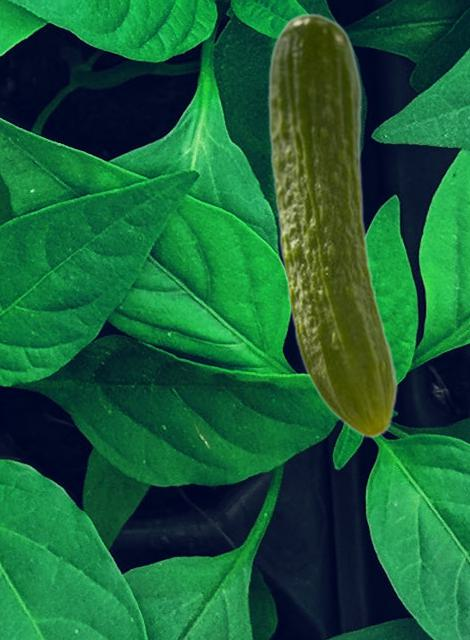cucumber: (267, 12, 397, 438)
